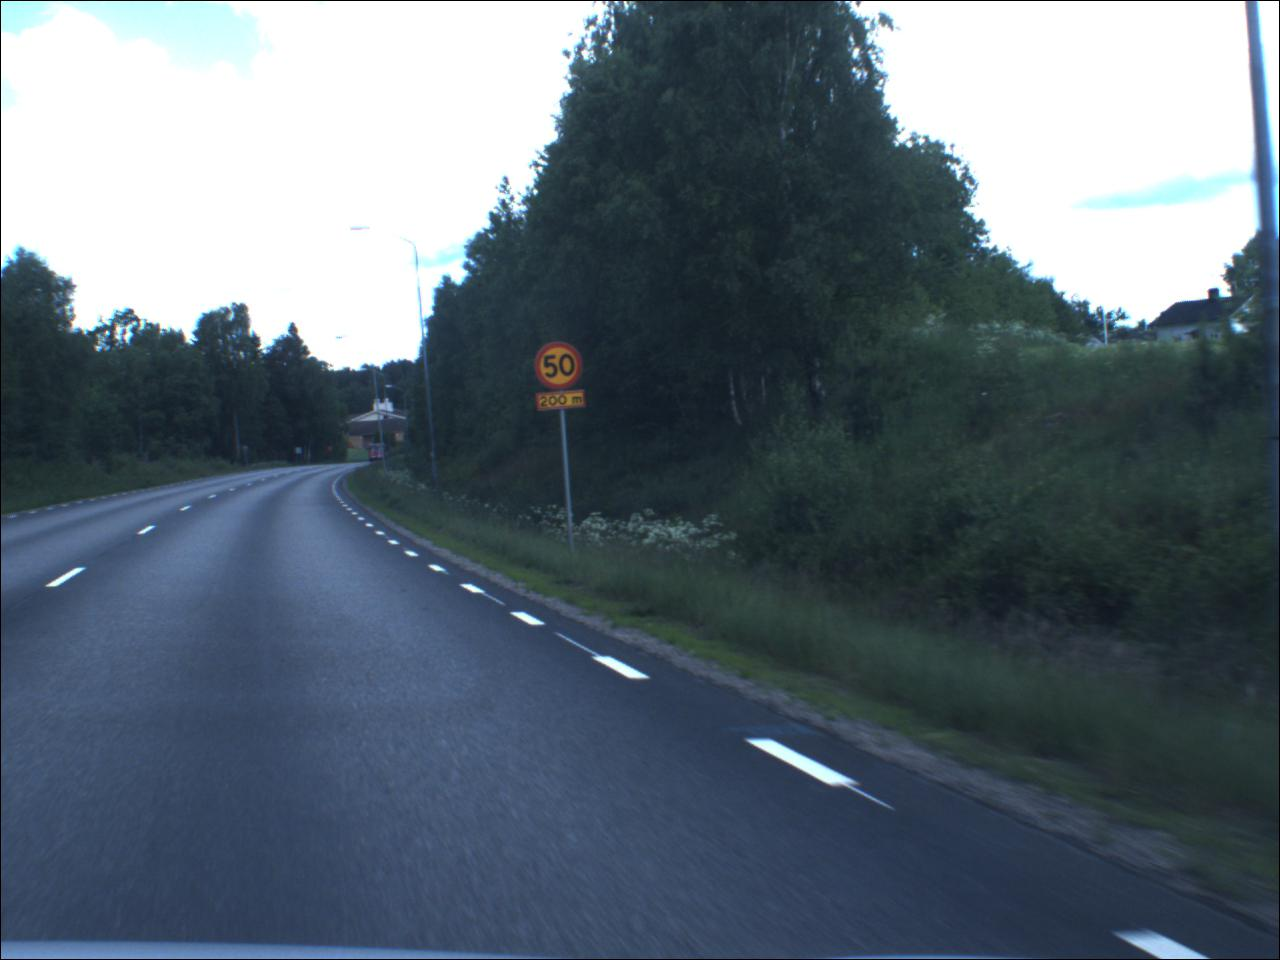50_SIGN: (537, 344, 586, 392)
